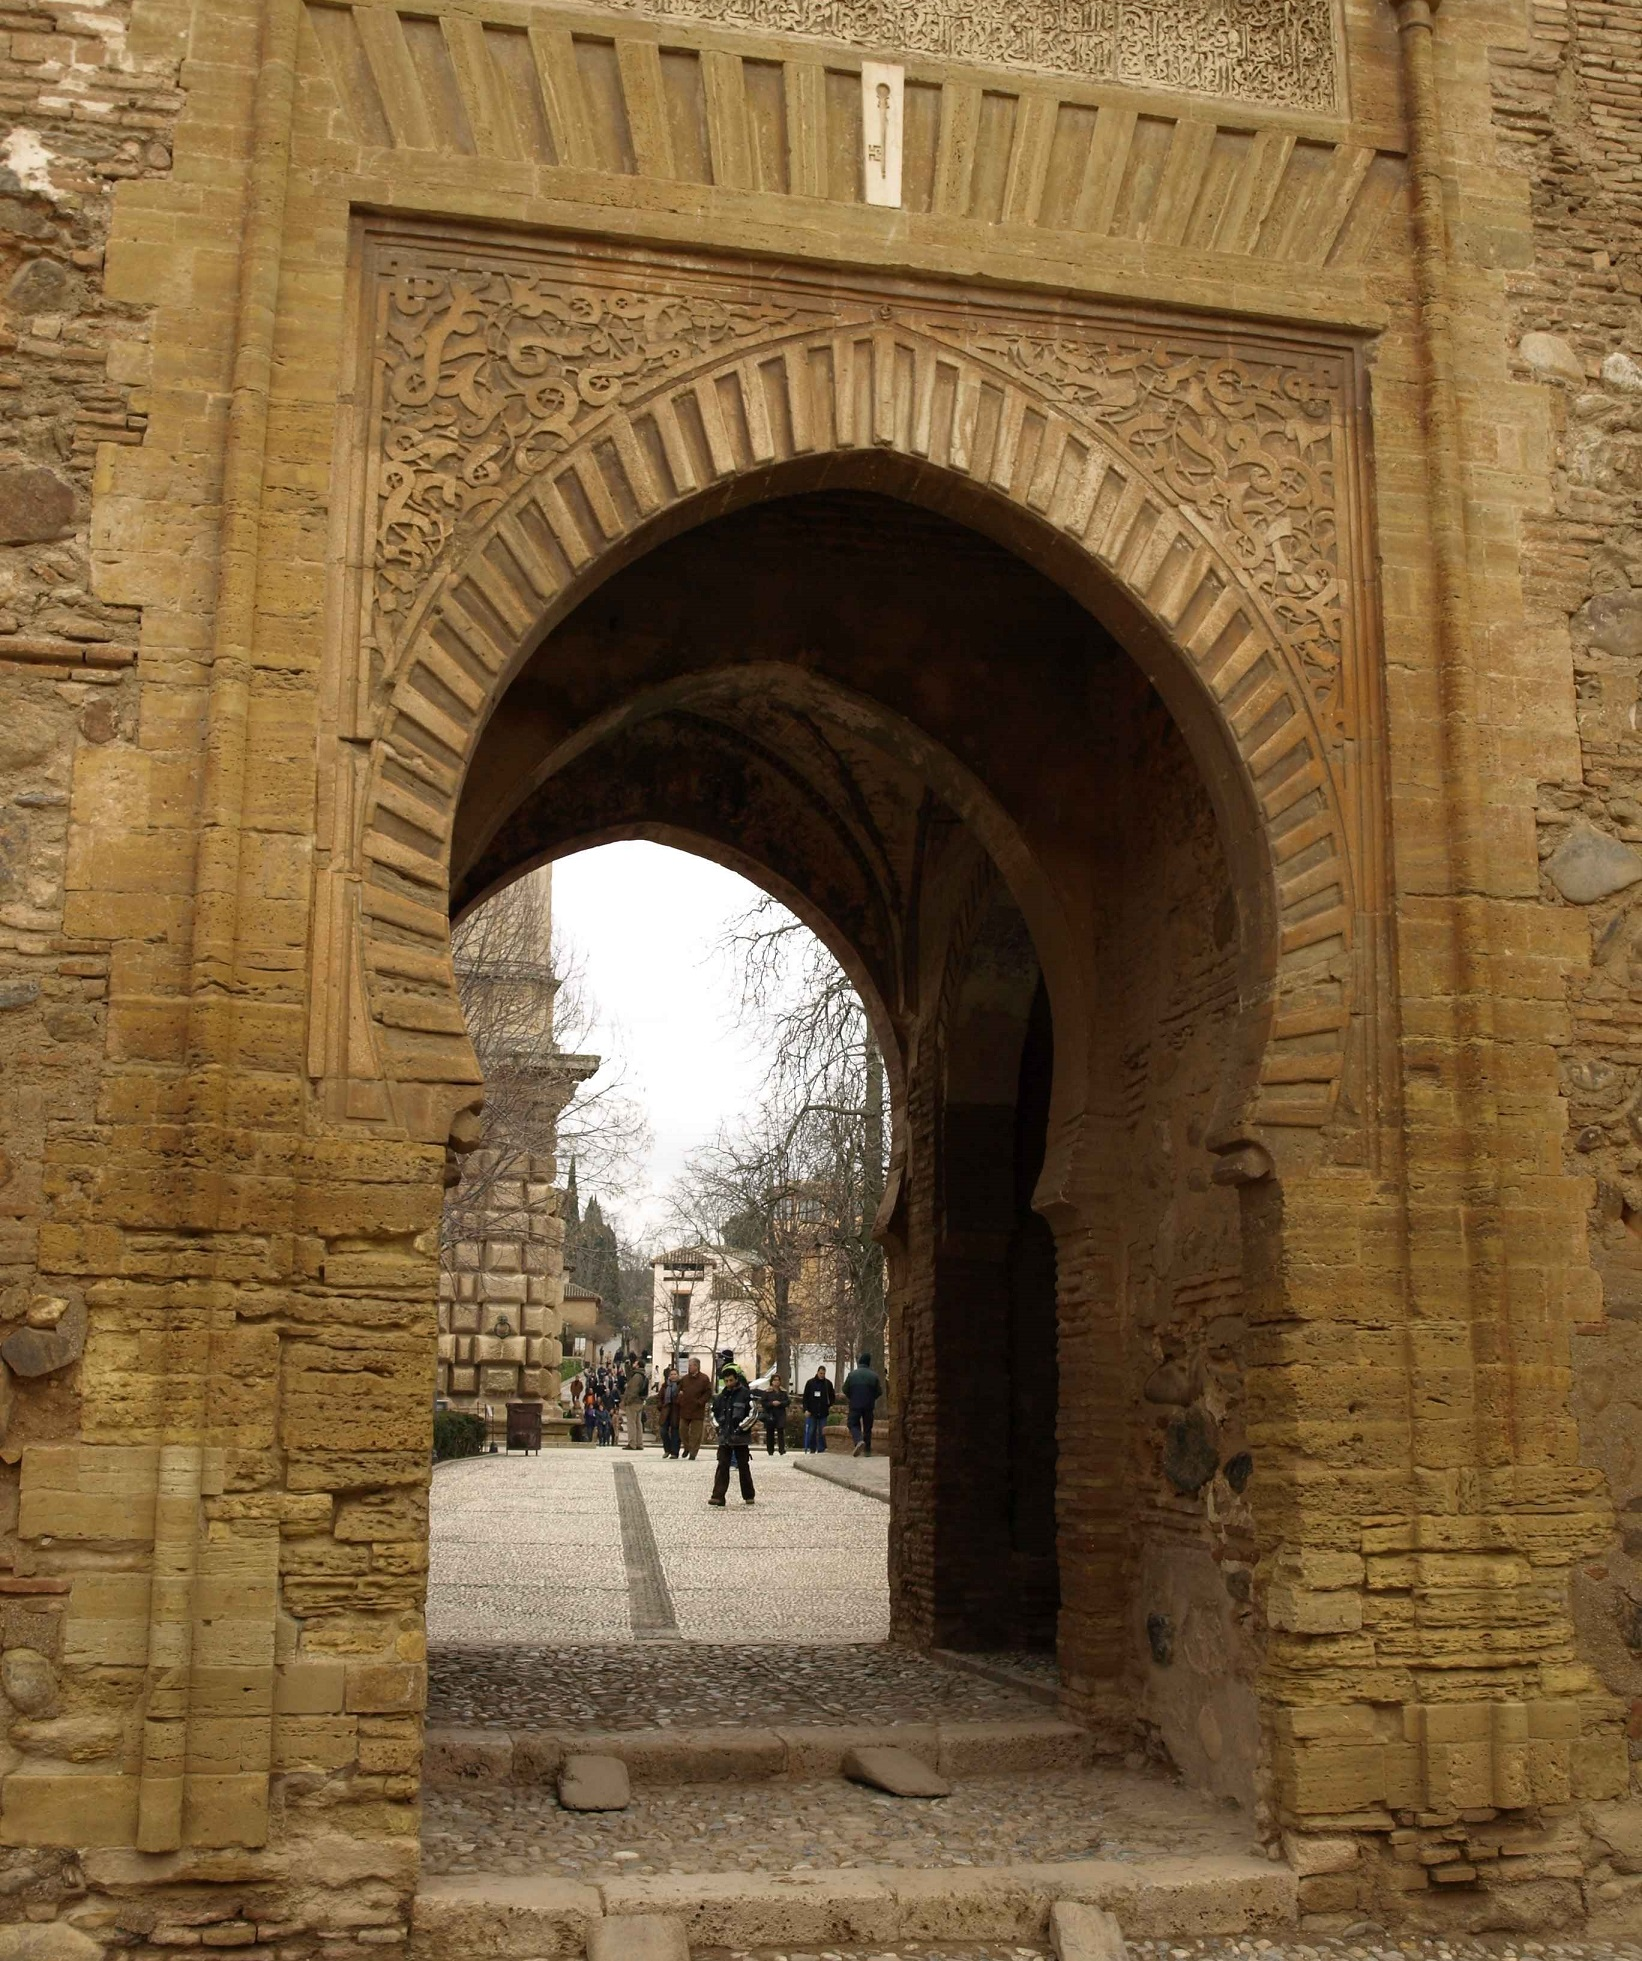arco-herradura: (393, 402, 1349, 1248)
dintel-adovelado: (321, 2, 1386, 300)
